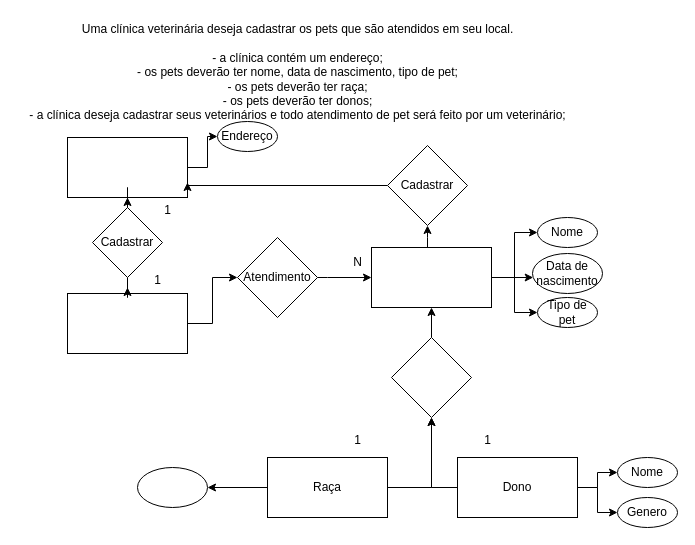
The diagram is 695 pixels wide and 545 high, and some of its shapes have lost their labels. The box of each missing label's shape, as (x1, y1, x2, y2) in pixels:
Clínica: (66, 136, 188, 198)
Nome da raça: (136, 466, 208, 508)
Pets: (370, 246, 492, 308)
Possui: (390, 336, 472, 418)
Veterinario: (66, 292, 188, 354)
